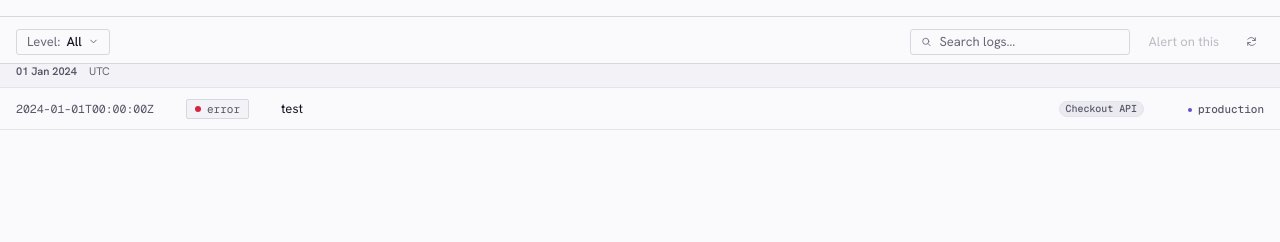
LogsView › log table › renders attribute rows when log has attributes
This screenshot has width=1280, height=242.
Step 1. Click the row "2024-01-01T00:00:00Z error test Checkout API production" → (640, 108), box [0, 88, 1279, 130]
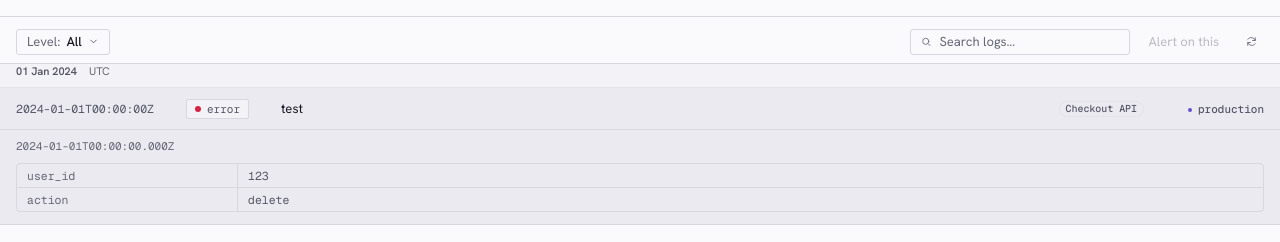
Now the text "user_id" is shown, box [17, 164, 237, 187]
Now the text "123" is shown, box [238, 164, 1263, 187]
